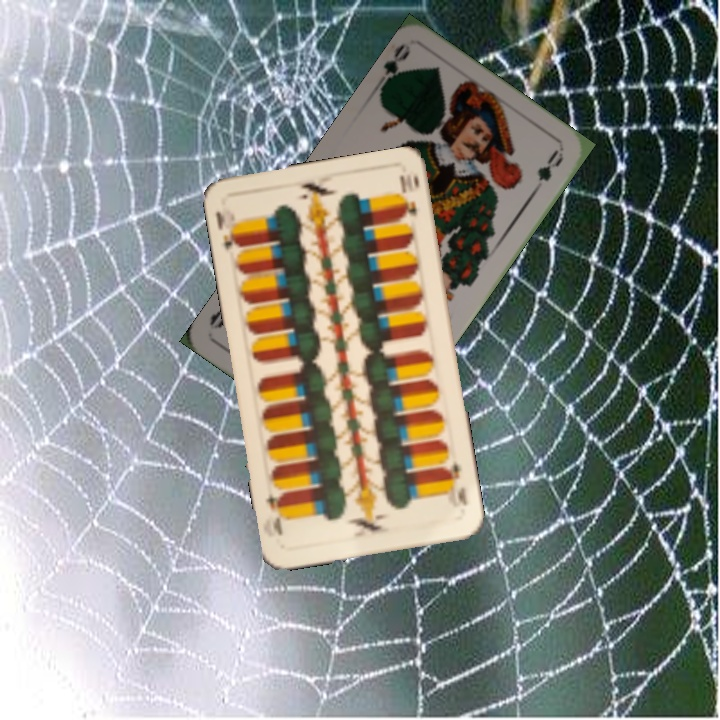E10: (211, 207, 245, 253), (441, 459, 470, 508)
GO: (376, 40, 413, 96)
